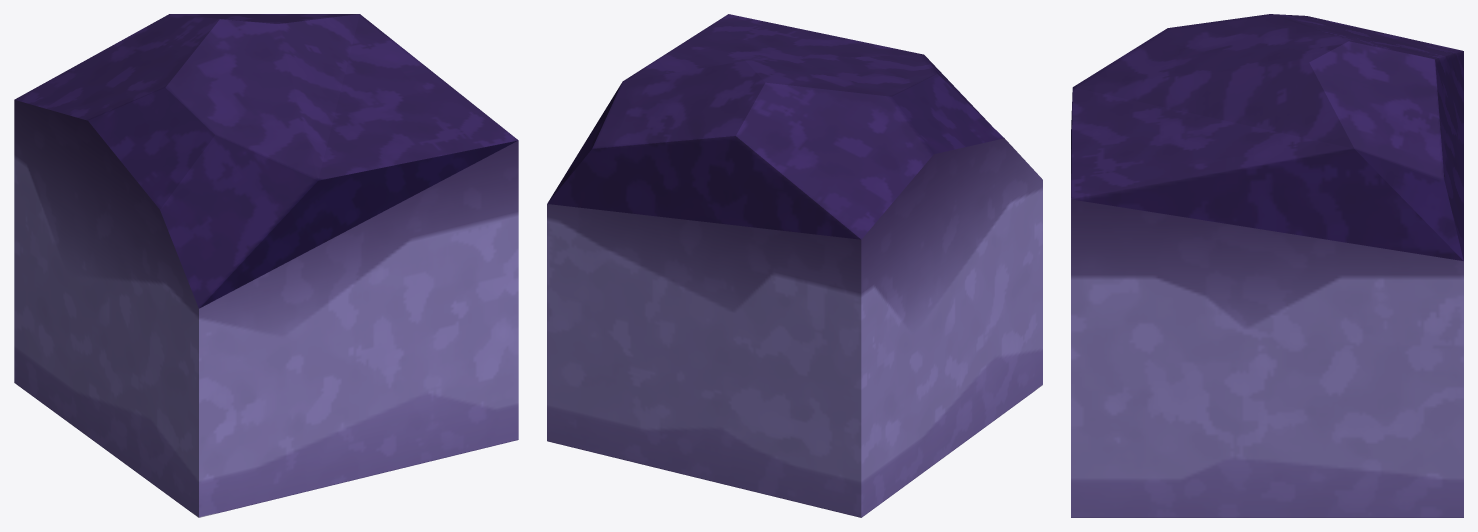
The model's file is Rock_03_001.fbx.
The picture shows the model from 3 angles, left to right: view 1: azimuth 30°, elevation 25°; view 2: azimuth 150°, elevation 25°; view 3: azimuth 270°, elevation 25°; orthographic projection. The views are drawn at different scales.
Visible parts, largest first — view 1: Rock_03_001; view 2: Rock_03_001; view 3: Rock_03_001.
Boxes of the visible parts, box(x1,y1,x2,y2) form: Rock_03_001: box(14, 14, 518, 517); Rock_03_001: box(547, 14, 1042, 517); Rock_03_001: box(1071, 14, 1463, 517).
Bounding box in the file's own units: 2 × 2.19 × 2.
1 material, 1 textured.
